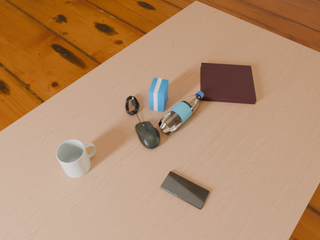book: (201, 63, 256, 104)
bottle: (159, 91, 204, 134)
box: (149, 78, 168, 112)
cup: (56, 140, 96, 178)
mouse: (135, 121, 160, 149)
phone: (161, 171, 209, 209)
